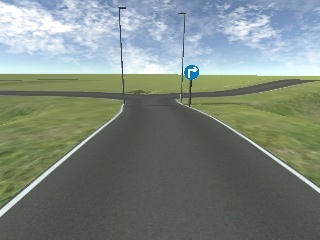turn_right_sign: (181, 62, 200, 81)
